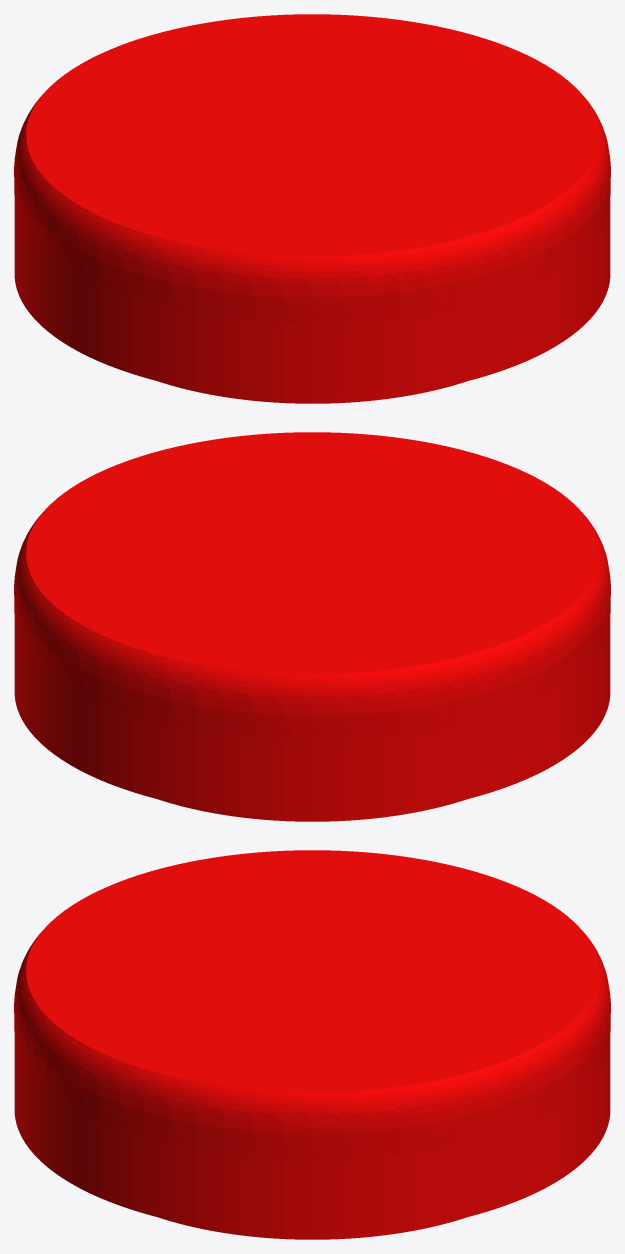
Rendered from sensor_tool_iiwa-tool_sponge_red.dae.
3 renders of one model, top to bottom at view 1: azimuth 30°, elevation 25°; view 2: azimuth 150°, elevation 25°; view 3: azimuth 270°, elevation 25°, orthographic.
Visible parts, largest first — view 1: node0; view 2: node0; view 3: node0.
Boxes of the visible parts, bbox=[...] form: node0: bbox=[14, 14, 610, 403]; node0: bbox=[14, 432, 610, 821]; node0: bbox=[14, 850, 610, 1239].
Size of the model in its own units: 0.0875 by 0.0876 by 0.0262.
